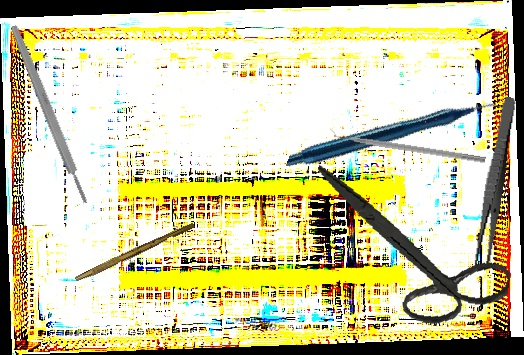Chopper: (328, 123, 488, 164)
Dressing Forceps: (472, 95, 518, 269)
Handpiece: (285, 42, 505, 231)
Iris Scissors: (299, 163, 522, 334)
Scalpel Handle: (8, 23, 91, 206), (74, 219, 196, 286)
